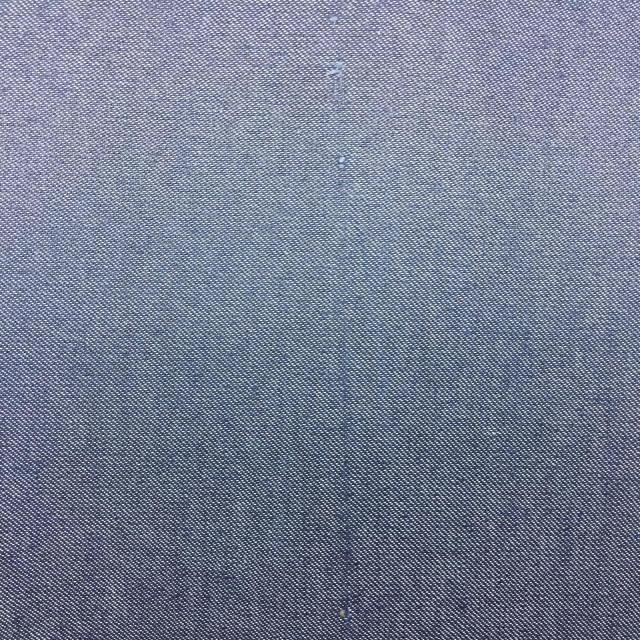Knot: (324, 58, 349, 110), (333, 150, 352, 175), (326, 13, 343, 26)
Line: (339, 296, 354, 639)
